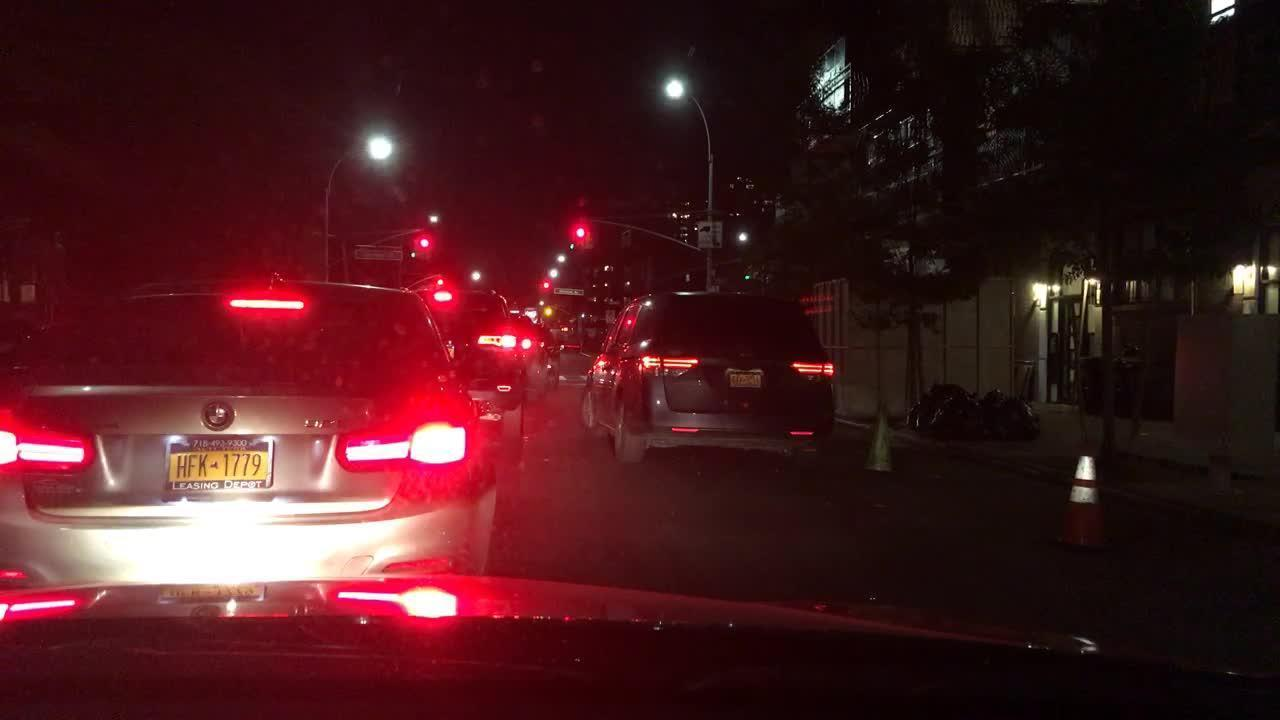bmw: (201, 401, 233, 433)
